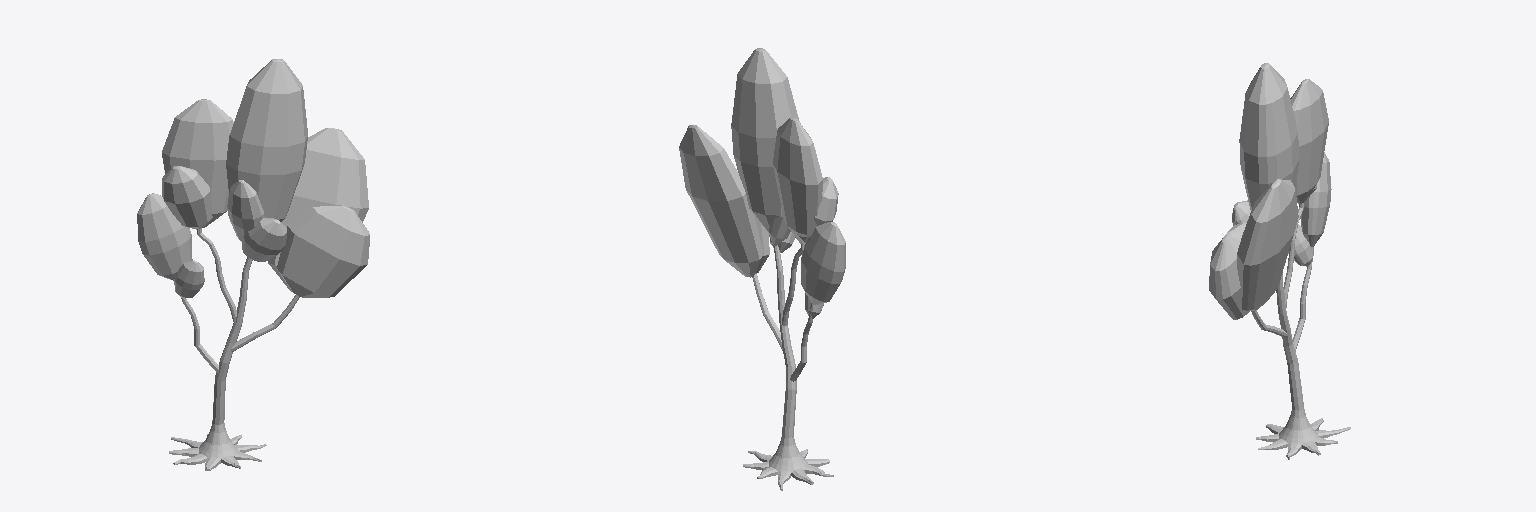
The model's file is BirchTreee.obj.
3 views of the same model, side by side, from view 1: azimuth 30°, elevation 25°; view 2: azimuth 150°, elevation 25°; view 3: azimuth 270°, elevation 25° (orthographic).
Visible parts, largest first — view 1: Birch_Tree; view 2: Birch_Tree; view 3: Birch_Tree.
Boxes of the visible parts, x1=… form: Birch_Tree: x1=137, y1=59, x2=369, y2=470; Birch_Tree: x1=679, y1=48, x2=845, y2=490; Birch_Tree: x1=1209, y1=63, x2=1350, y2=459.
Size of the model in its own units: 6.99 by 13.58 by 4.41.